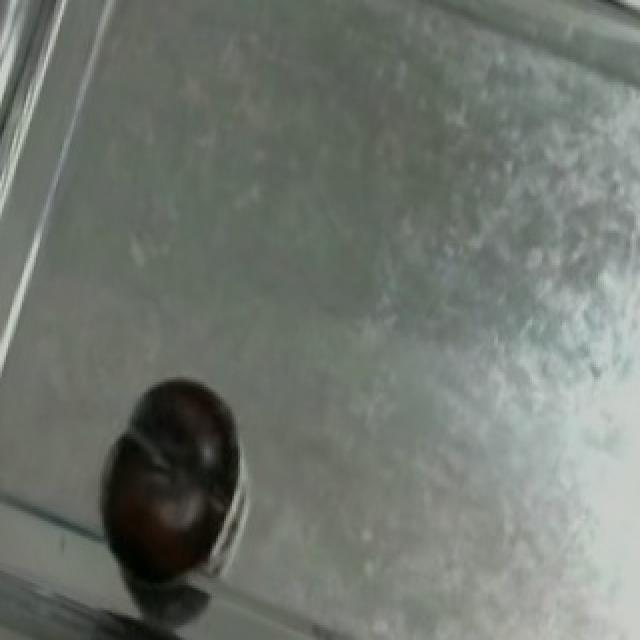Fruit: (84, 442, 240, 602), (126, 362, 254, 519)
